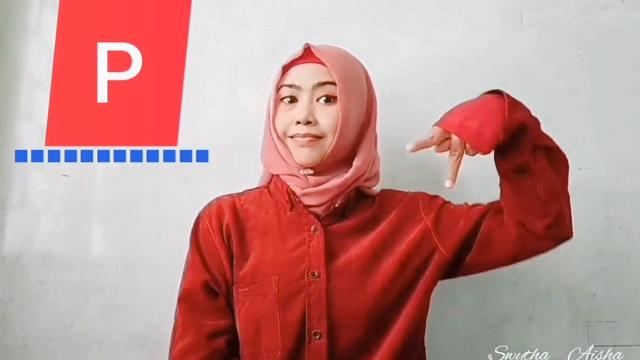P: (404, 90, 512, 188)
